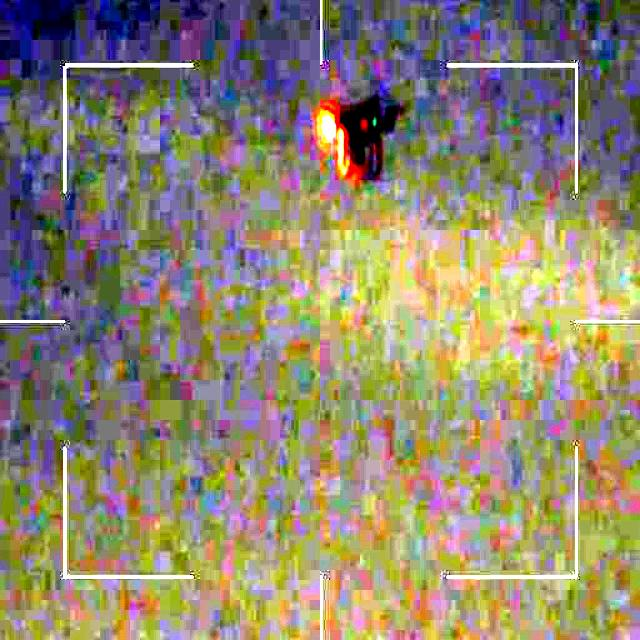bird: (309, 94, 402, 189)
